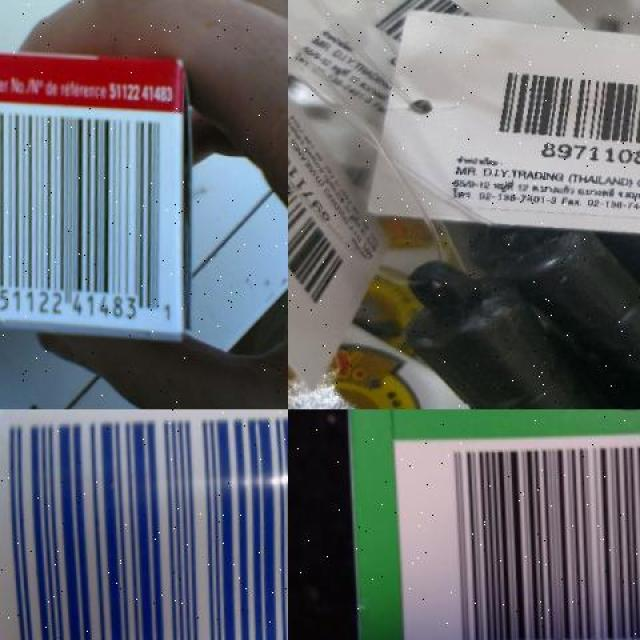Barcode: (0, 409, 288, 640), (390, 430, 640, 640), (0, 91, 187, 352), (472, 56, 640, 171)
